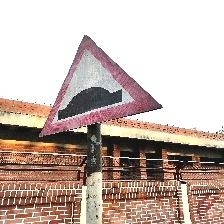Speed-breaker: (38, 35, 162, 136)
